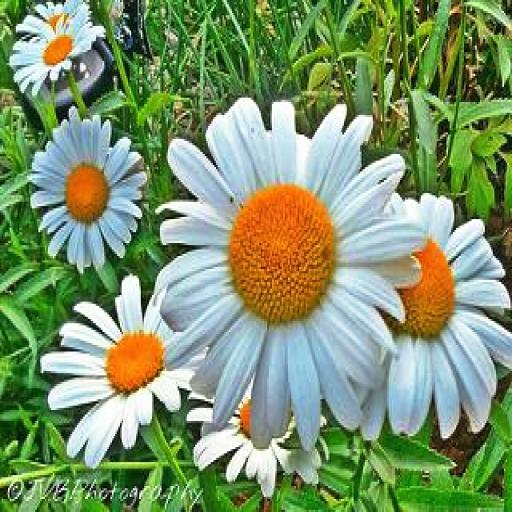daisy: (168, 115, 397, 436), (384, 184, 510, 434), (52, 295, 198, 443), (30, 120, 144, 262), (202, 390, 320, 490), (11, 20, 107, 80)
